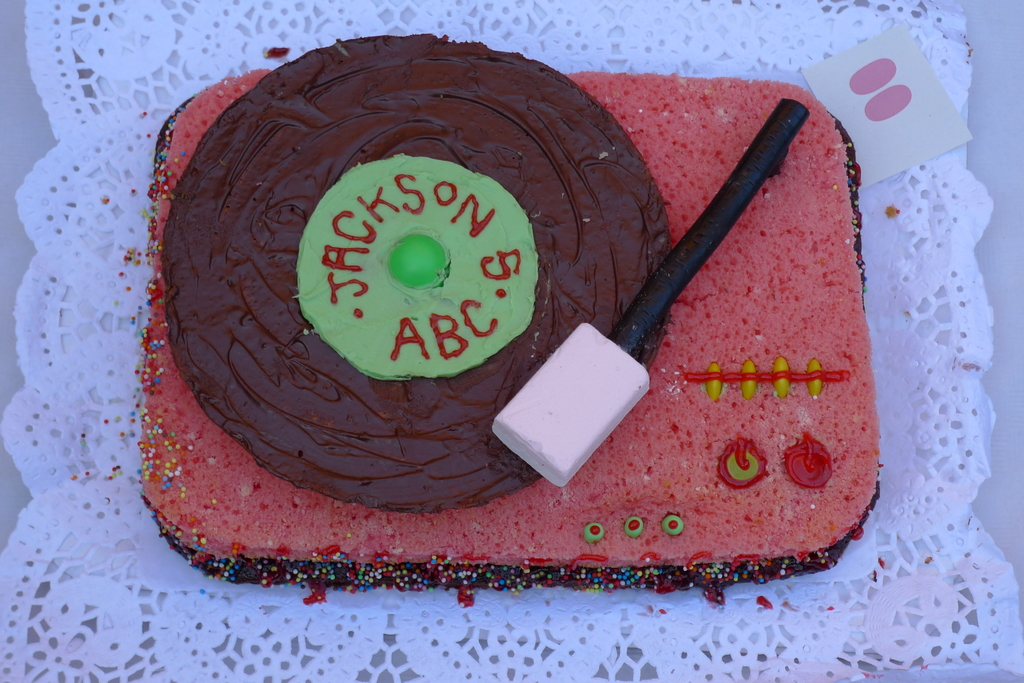cake: (141, 31, 860, 593)
